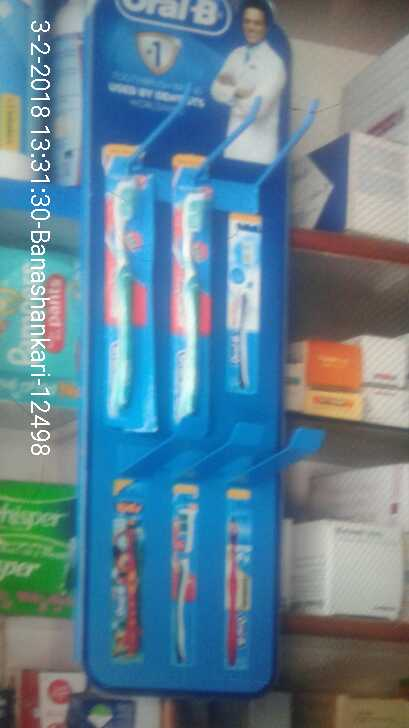oralb: (102, 169, 155, 436), (165, 192, 216, 438)
